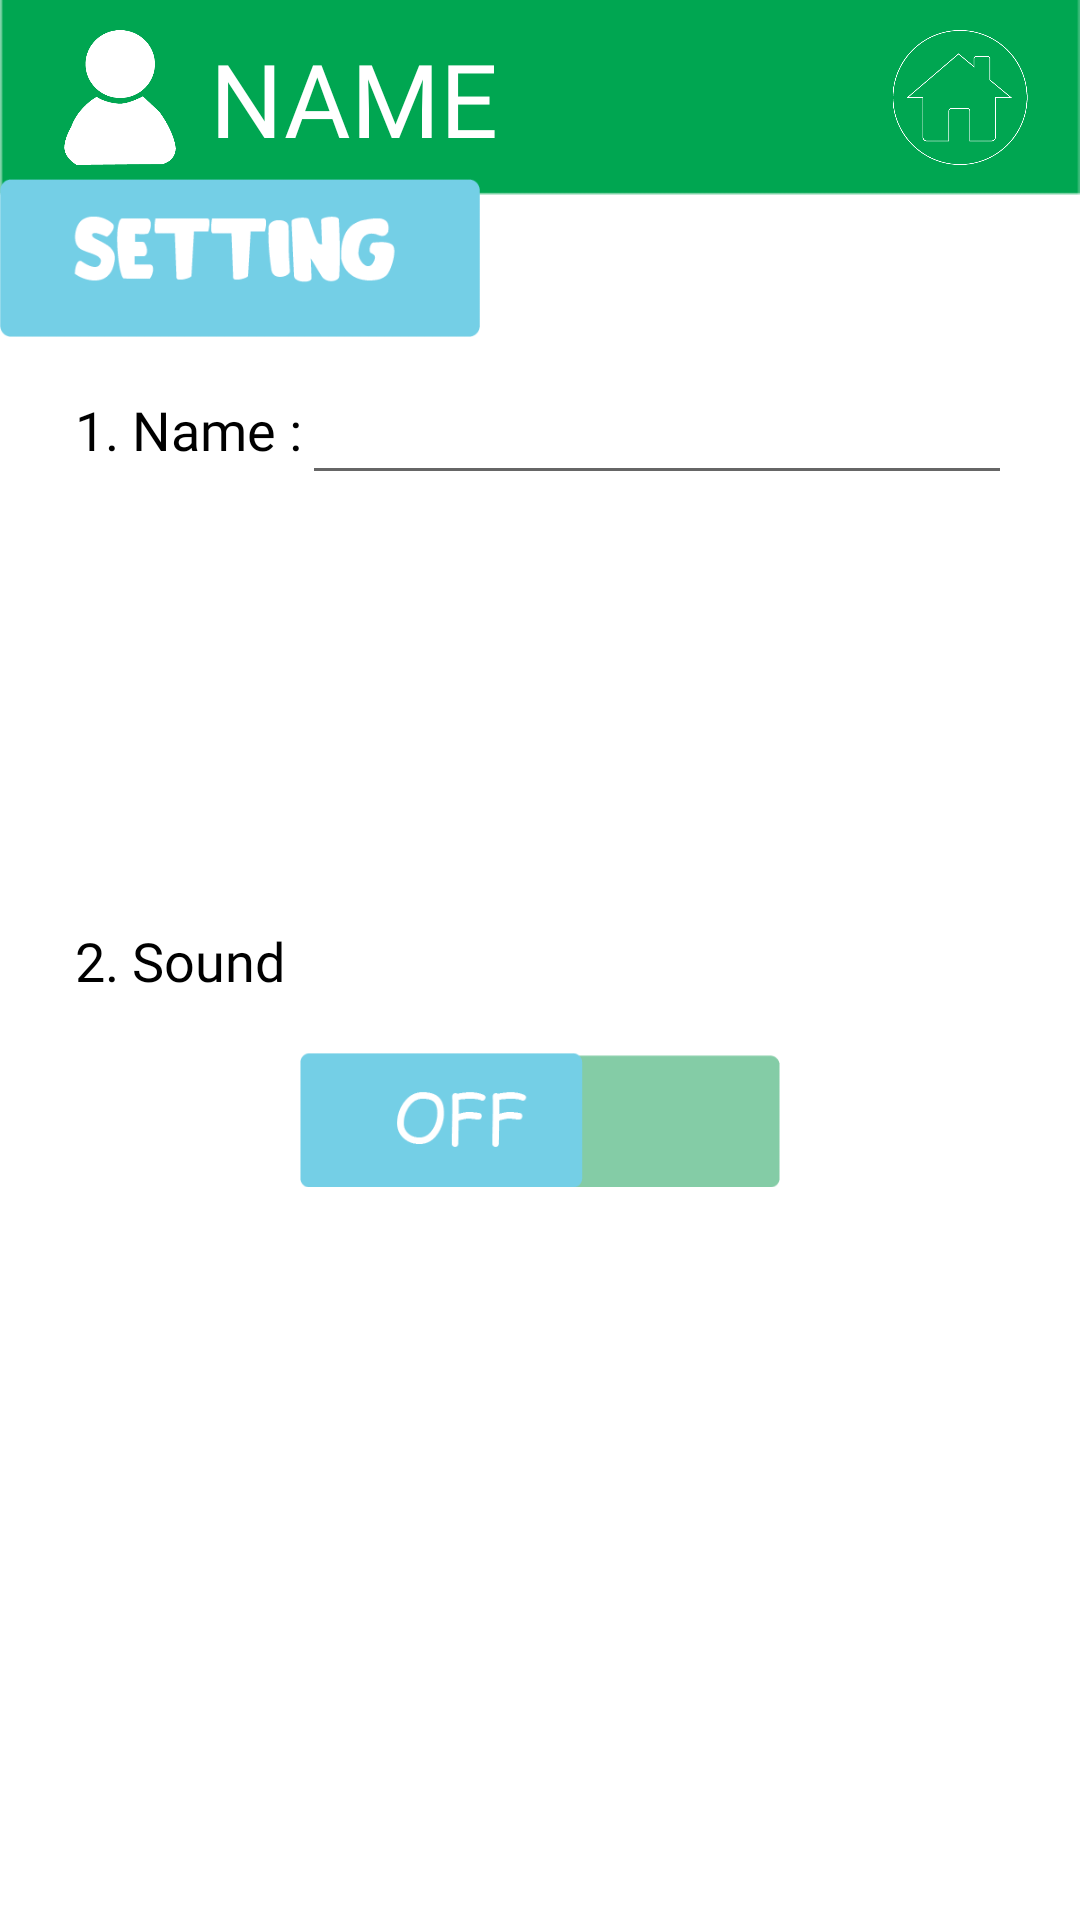

Where icons sit on this 1080px×1920px app screen, as (x1, y1, x2, y2):
homepage: (893, 30, 1028, 165)
